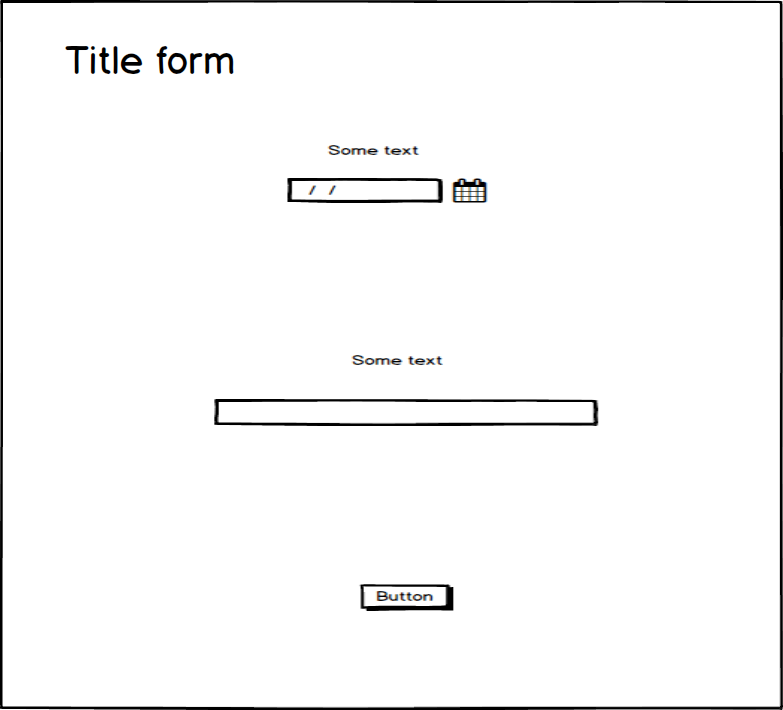button: (355, 581, 456, 615)
date_picker: (282, 173, 492, 209)
h1: (60, 36, 241, 84)
input: (210, 395, 607, 430)
label: (344, 348, 449, 370), (319, 140, 428, 161)
